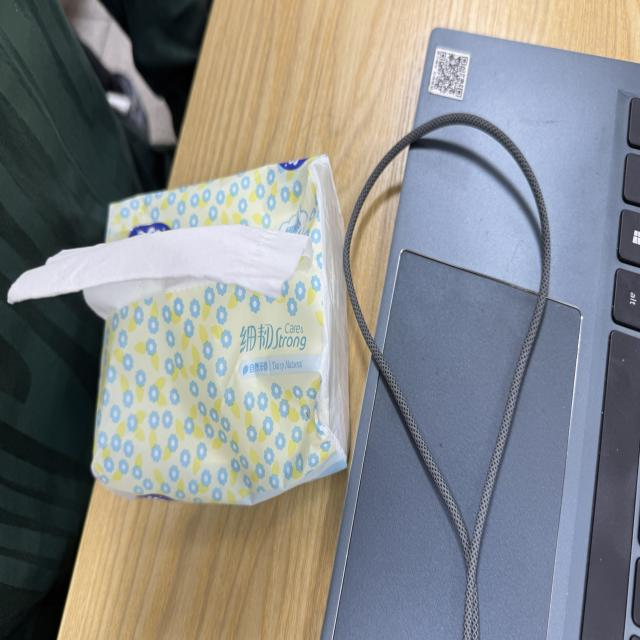tissue: (92, 157, 348, 503)
